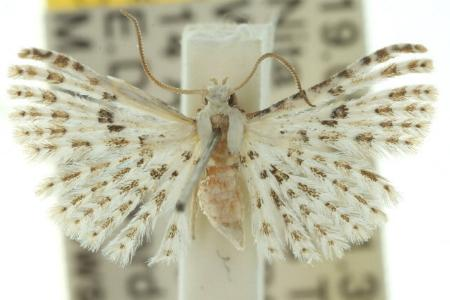Alucitidae: (9, 6, 437, 270)
moth: (11, 8, 439, 272)
